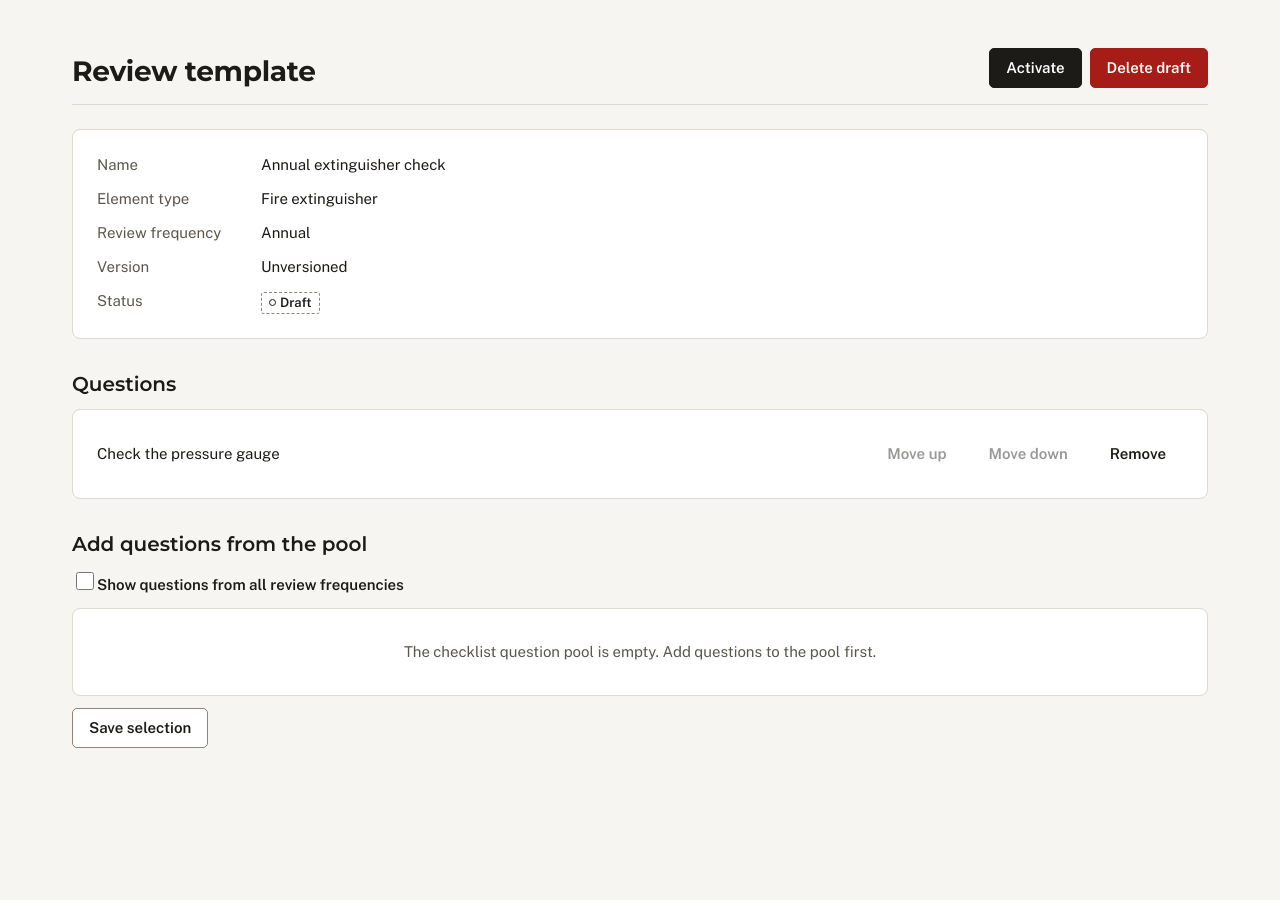
Test: ReviewTemplateDetailPage › draft template › activates on confirmation and refreshes to the frozen render (spec: Successful activation updates both versions in the list)
Step 1. Click the button with test id "review-template-detail-activate" → (1036, 68), box [989,48,1082,88]
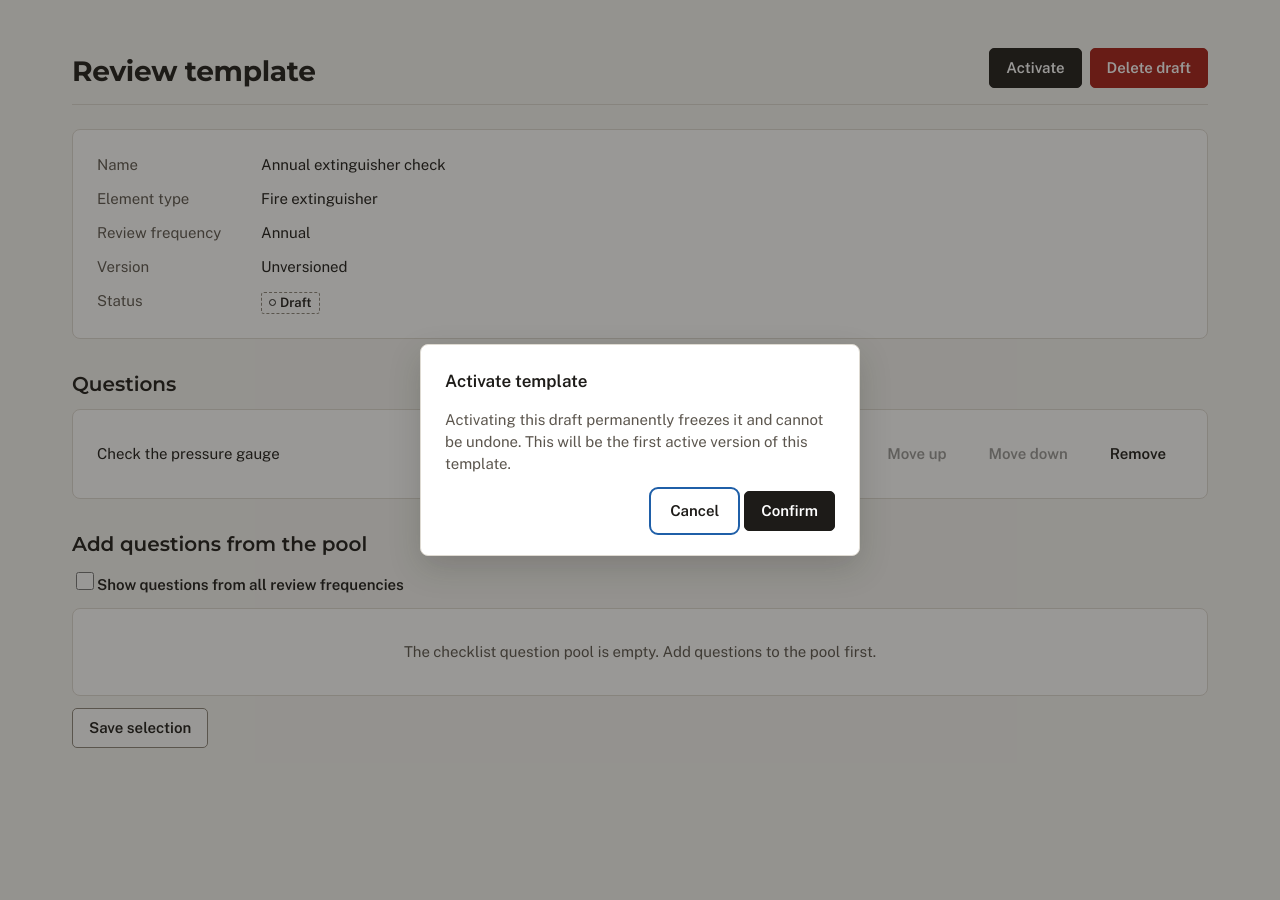
Step 2. Click the button with test id "confirm-dialog-confirm" → (790, 511), box [744,491,835,531]
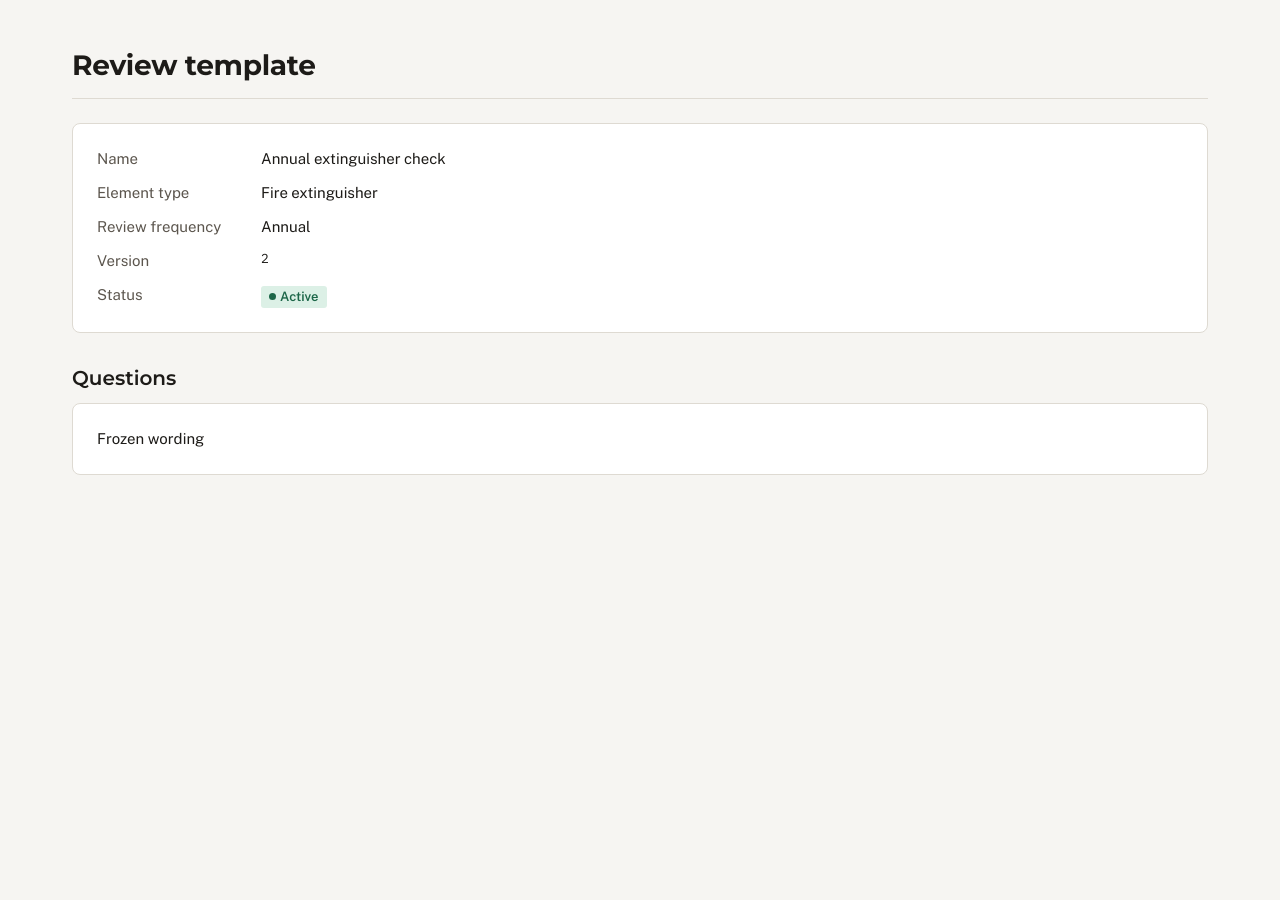
Check: the element with test id "review-template-detail-status" reads "Active", box [280,288,318,304]
